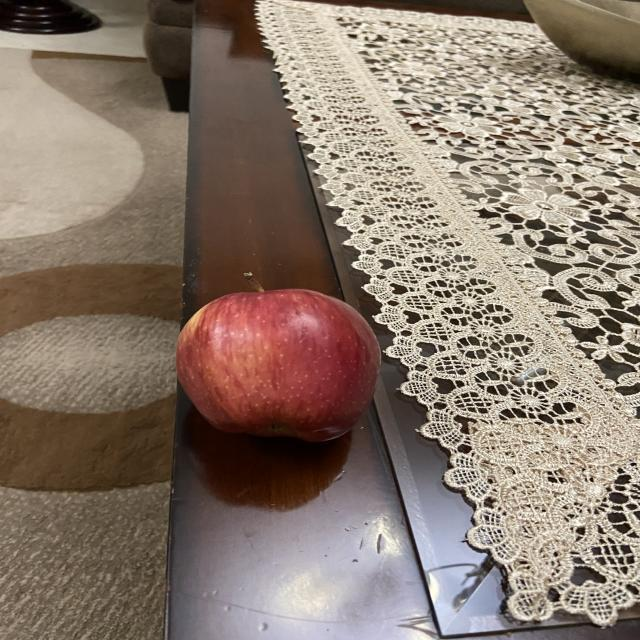apple: (172, 264, 386, 450)
